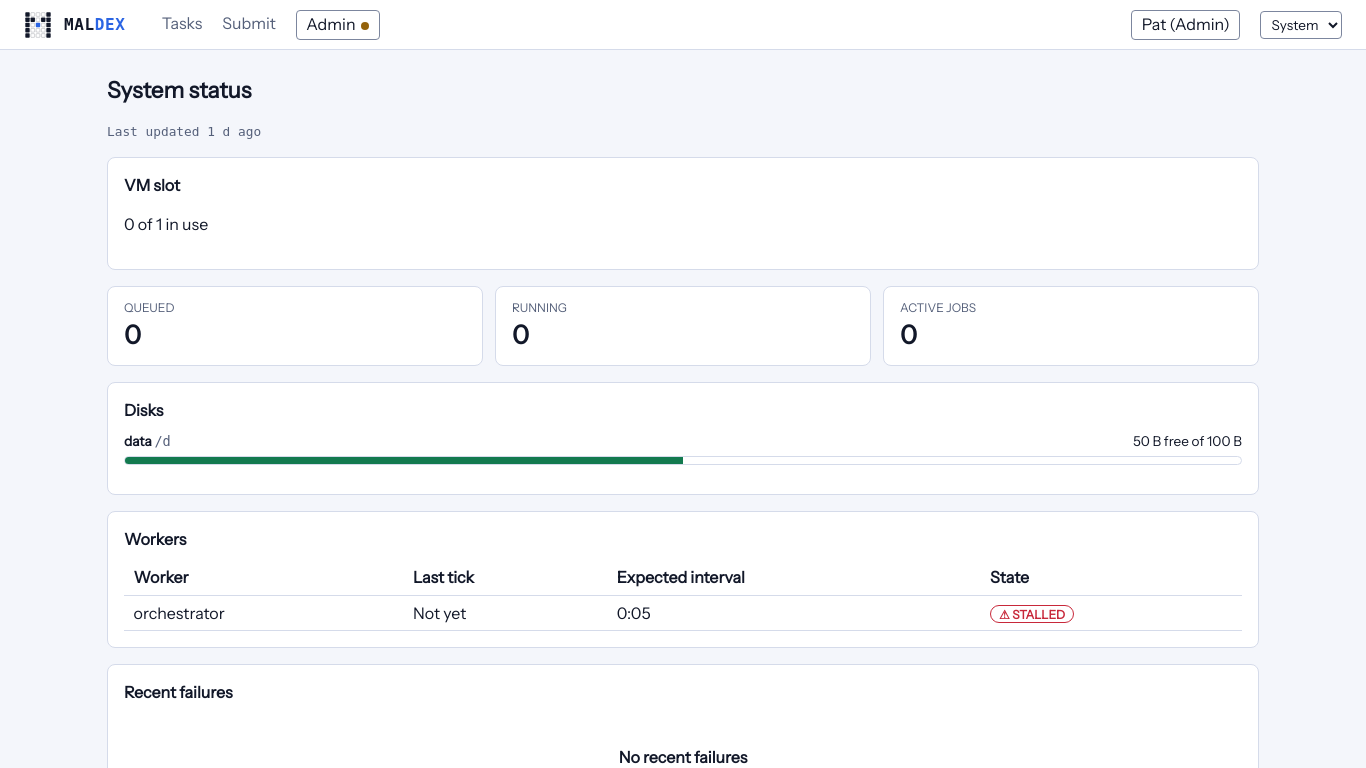
Test: shows the attention dot on the Admin button and the Status link for a stalled worker
Expected: the heading "System status" is shown, [107, 76, 251, 104]
Expected: the picture named "needs attention" is shown, [361, 22, 369, 30]
Click the button "Admin".
click(338, 25)  # box [296, 10, 380, 40]
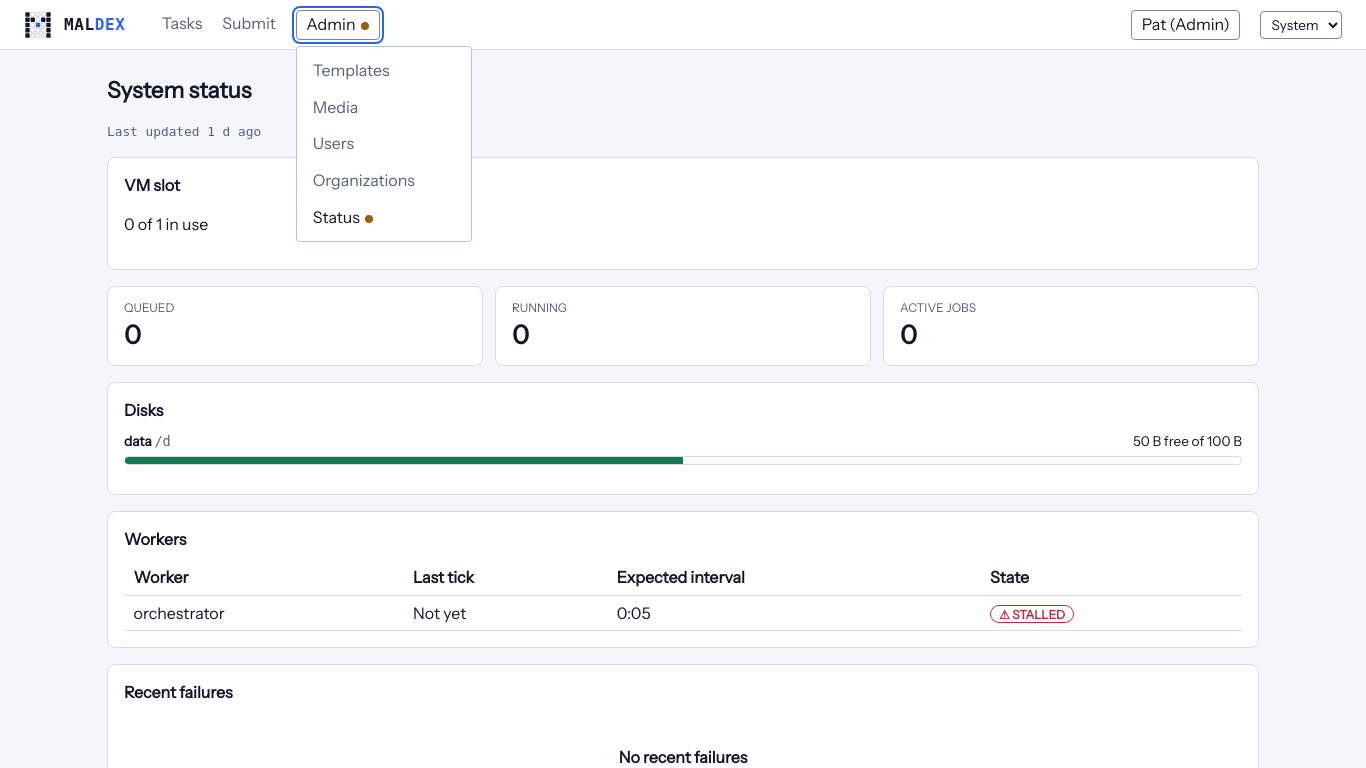
Now the picture named "needs attention" below "Organizations" is shown, box [365, 215, 373, 223]
